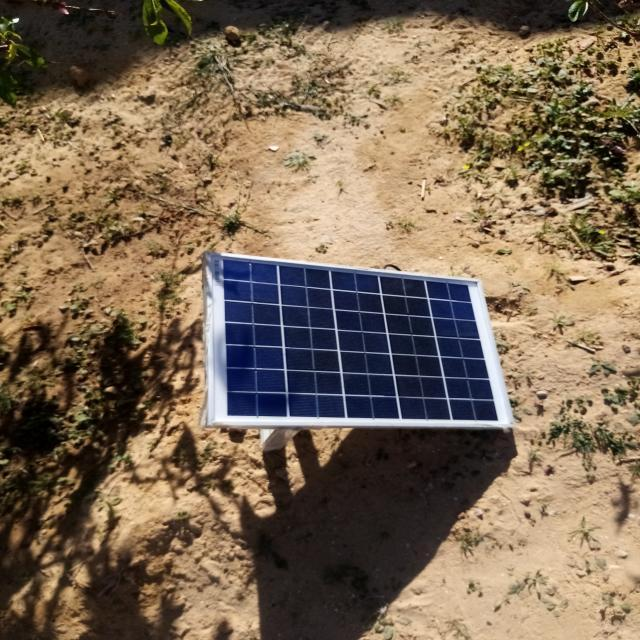no faulty: (207, 252, 515, 427)
